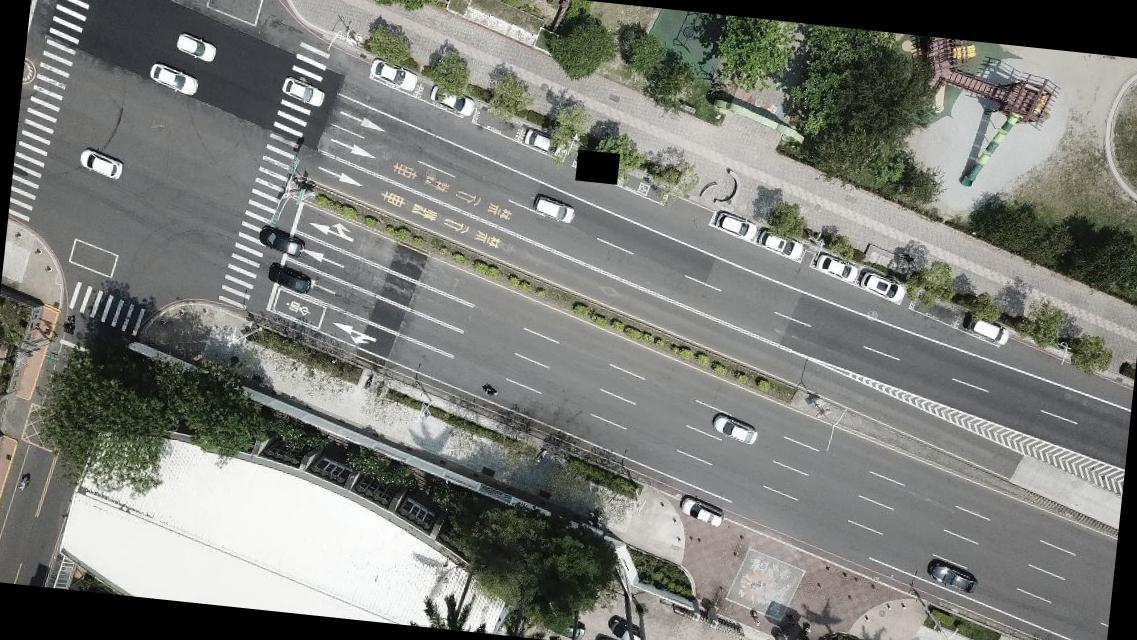vehicle: (147, 62, 198, 97), (709, 412, 760, 447), (927, 558, 979, 592), (428, 85, 476, 118), (680, 493, 724, 528), (257, 225, 305, 257), (77, 148, 123, 180), (757, 230, 805, 260), (268, 262, 312, 294), (369, 63, 418, 91), (969, 314, 1013, 345), (861, 270, 906, 300), (280, 77, 326, 106), (714, 212, 758, 241), (814, 256, 860, 282), (534, 196, 576, 223), (603, 614, 647, 639), (174, 36, 216, 60), (524, 130, 564, 154), (547, 618, 586, 639)
